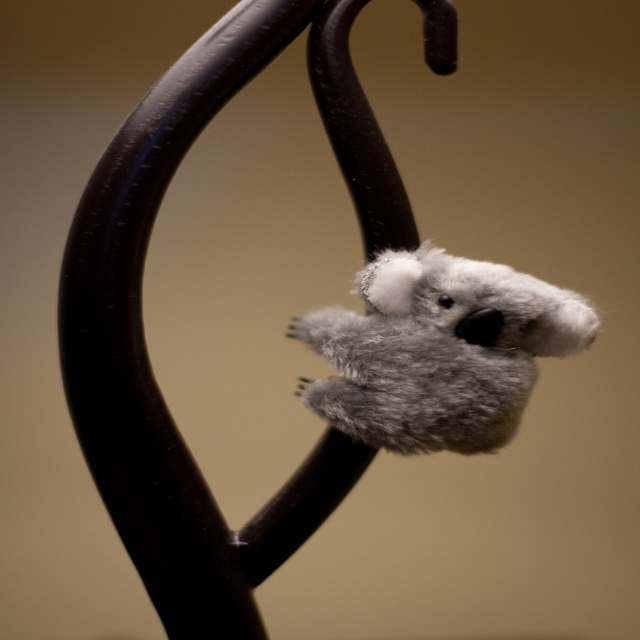Koala: (253, 245, 635, 475)
